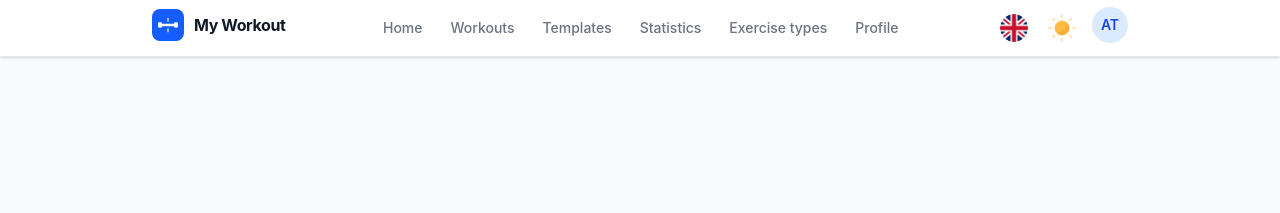
it: AppHeader › cierra menús al cambiar de ruta
Click the button "AT" at x=1110, y=25, box x1=1092 y1=7 x2=1128 y2=43
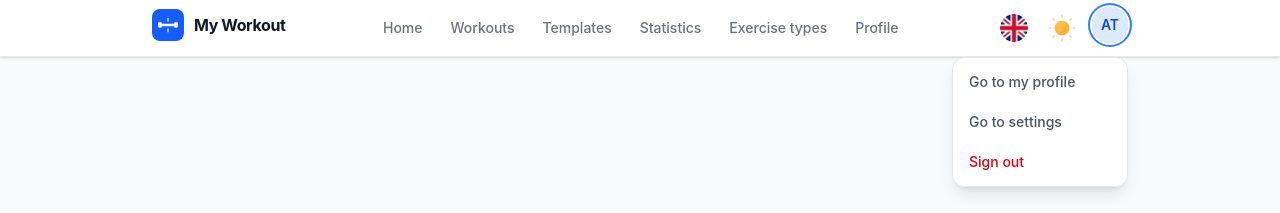
Expected: the menu is shown, x1=952 y1=57 x2=1128 y2=187
